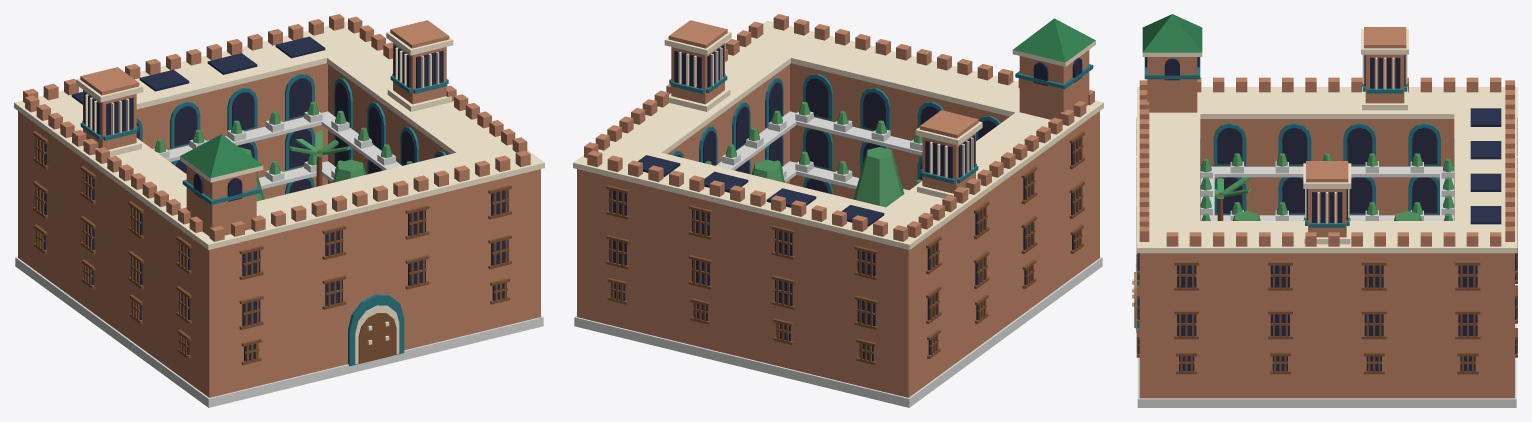
The model's file is house-2x2-3f-riad-a-solar.glb.
3 views of the same model, side by side, from view 1: azimuth 30°, elevation 25°; view 2: azimuth 150°, elevation 25°; view 3: azimuth 270°, elevation 25° (orthographic). The views are drawn at different scales.
Visible parts, largest first — view 1: house-2x2-3f-riad-a-solar; view 2: house-2x2-3f-riad-a-solar; view 3: house-2x2-3f-riad-a-solar.
Boxes of the visible parts, x1,y1,x2,y2 form: house-2x2-3f-riad-a-solar: (14, 14, 544, 407); house-2x2-3f-riad-a-solar: (573, 14, 1103, 407); house-2x2-3f-riad-a-solar: (1132, 14, 1517, 407).
Bounding box in the file's own units: 1.98 × 1.42 × 2.01.
1 material, 1 textured.
